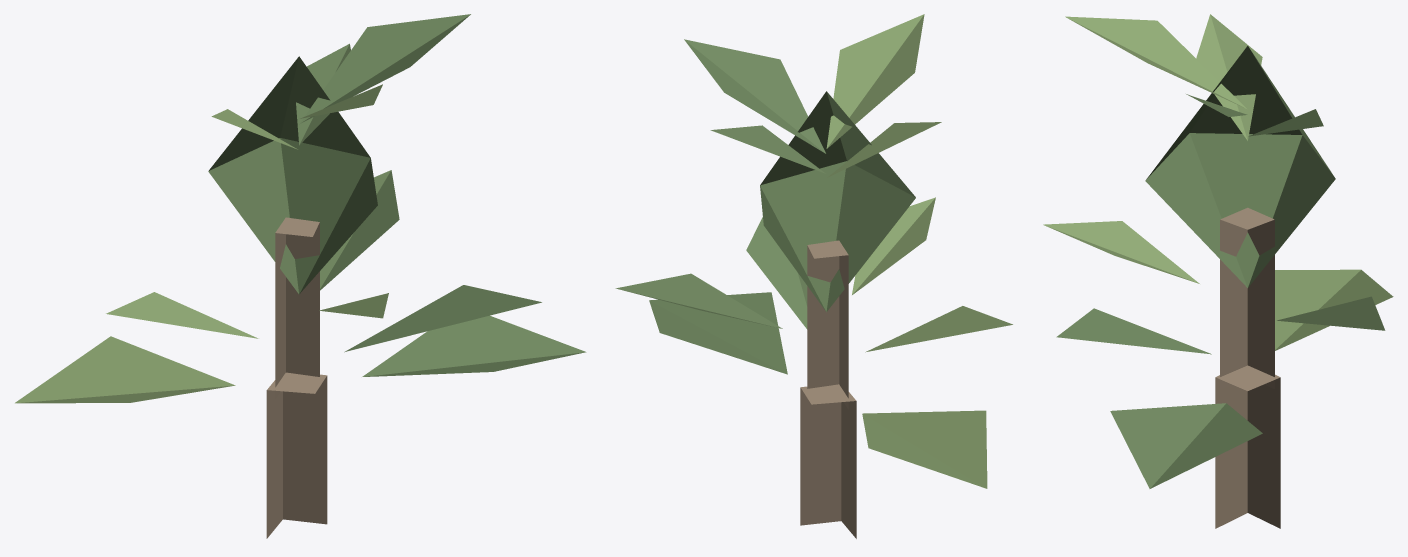
The model's file is guan.huanglu@seedling__summer.glb.
3 views of the same model, side by side, from view 1: azimuth 30°, elevation 25°; view 2: azimuth 150°, elevation 25°; view 3: azimuth 270°, elevation 25° (orthographic). The views are drawn at different scales.
Visible parts, largest first — view 1: guan.huanglu@seedling__summer; view 2: guan.huanglu@seedling__summer; view 3: guan.huanglu@seedling__summer.
Part boxes in pixels (x1,y1,x2,y2): guan.huanglu@seedling__summer: (15, 14, 586, 538); guan.huanglu@seedling__summer: (615, 14, 1012, 538); guan.huanglu@seedling__summer: (1043, 14, 1393, 528).
Bounding box in the file's own units: 0.2467 × 0.2495 × 0.1573.
